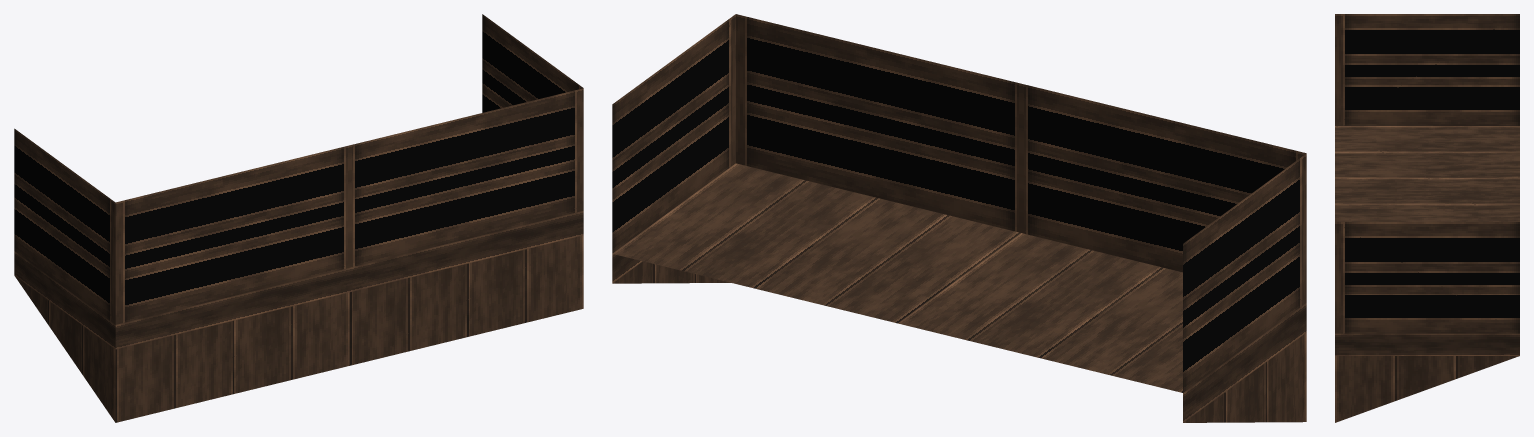
The model's file is house_balcony_4x1.glb.
The picture shows the model from 3 angles, left to right: view 1: azimuth 30°, elevation 25°; view 2: azimuth 150°, elevation 25°; view 3: azimuth 270°, elevation 25°; orthographic projection. The views are drawn at different scales.
Parts seen in each view (by area): view 1: house_balcony_4x1; view 2: house_balcony_4x1; view 3: house_balcony_4x1.
Part boxes in pixels (box(x1,y1,x2,y2)): house_balcony_4x1: box(14, 14, 583, 422); house_balcony_4x1: box(612, 14, 1306, 422); house_balcony_4x1: box(1335, 14, 1519, 422).
Bounding box in the file's own units: 4 × 1.8 × 1.5.
Materials: 2 (2 with a texture image).
